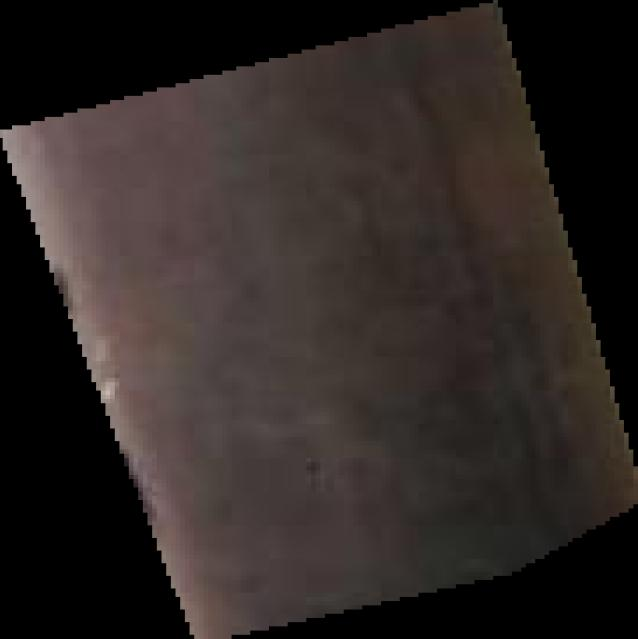Uniform Corrosion: (0, 1, 638, 639)
